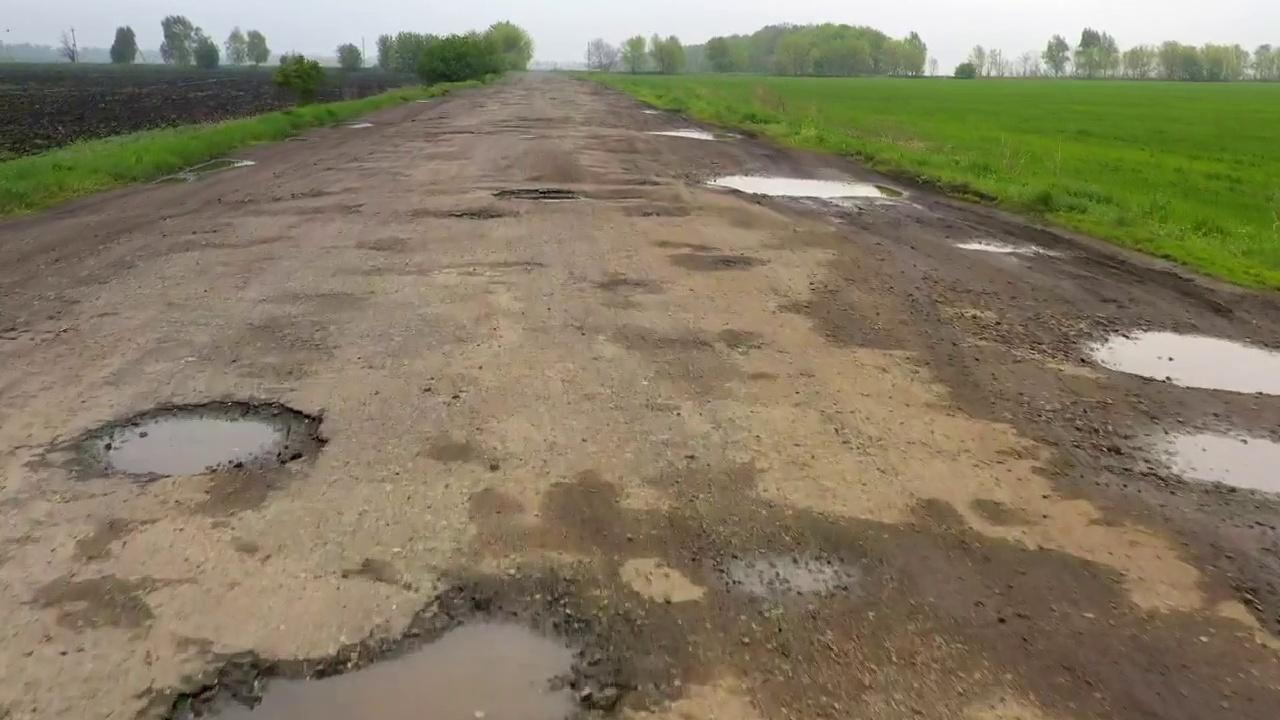bache: (165, 574, 632, 719), (47, 401, 326, 479), (1087, 331, 1279, 395), (1155, 433, 1279, 493), (709, 175, 887, 198), (413, 206, 519, 219), (491, 187, 588, 201)
